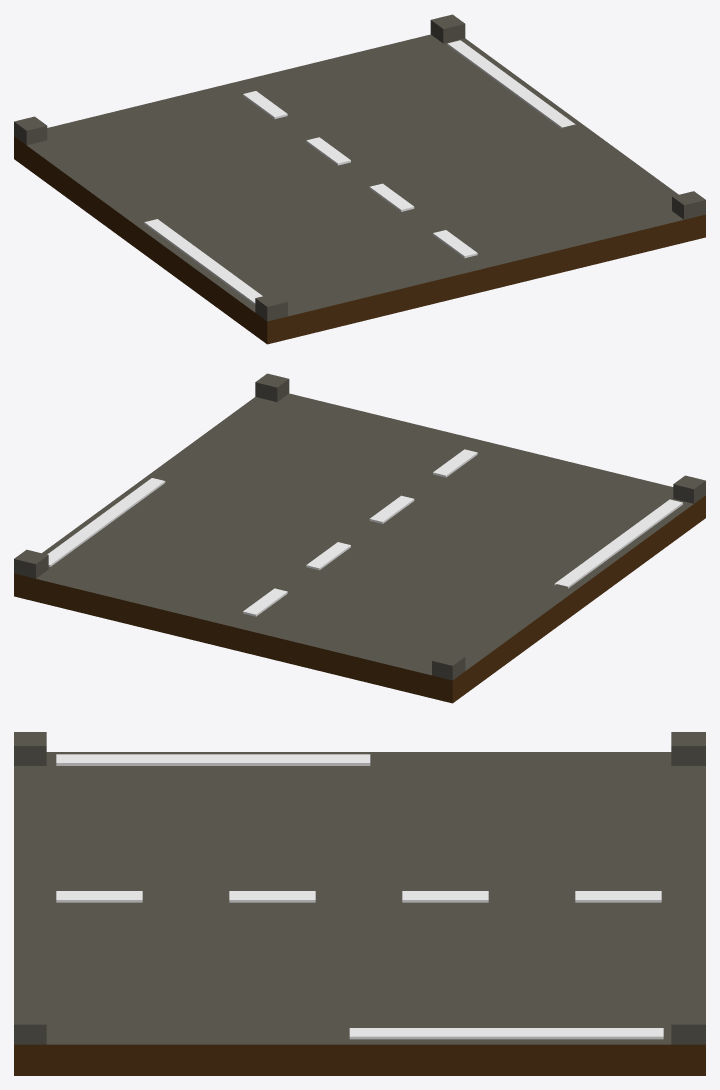
The model's file is CityRoadCrossing_01.fbx.
3 renders of one model, top to bottom at view 1: azimuth 30°, elevation 25°; view 2: azimuth 150°, elevation 25°; view 3: azimuth 270°, elevation 25°, orthographic. The views are drawn at different scales.
Parts seen in each view (by area): view 1: CityRoadCrossing_01; view 2: CityRoadCrossing_01; view 3: CityRoadCrossing_01.
Part boxes in pixels (x1,y1,x2,y2): CityRoadCrossing_01: (14,14,705,344); CityRoadCrossing_01: (14,373,705,703); CityRoadCrossing_01: (14,732,705,1075).
Size of the model in its own units: 1 by 0.0818 by 1.
